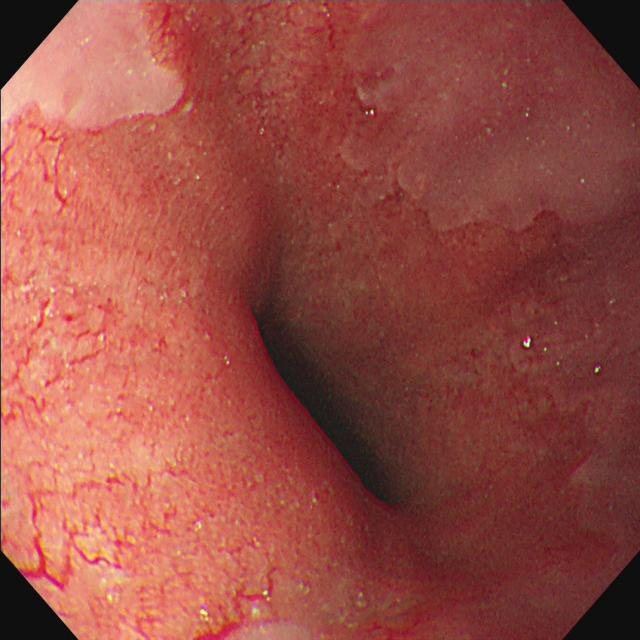D: (2, 467, 174, 600), (2, 255, 113, 444), (2, 103, 104, 228)
E: (243, 289, 404, 519)
U: (521, 337, 535, 351)
